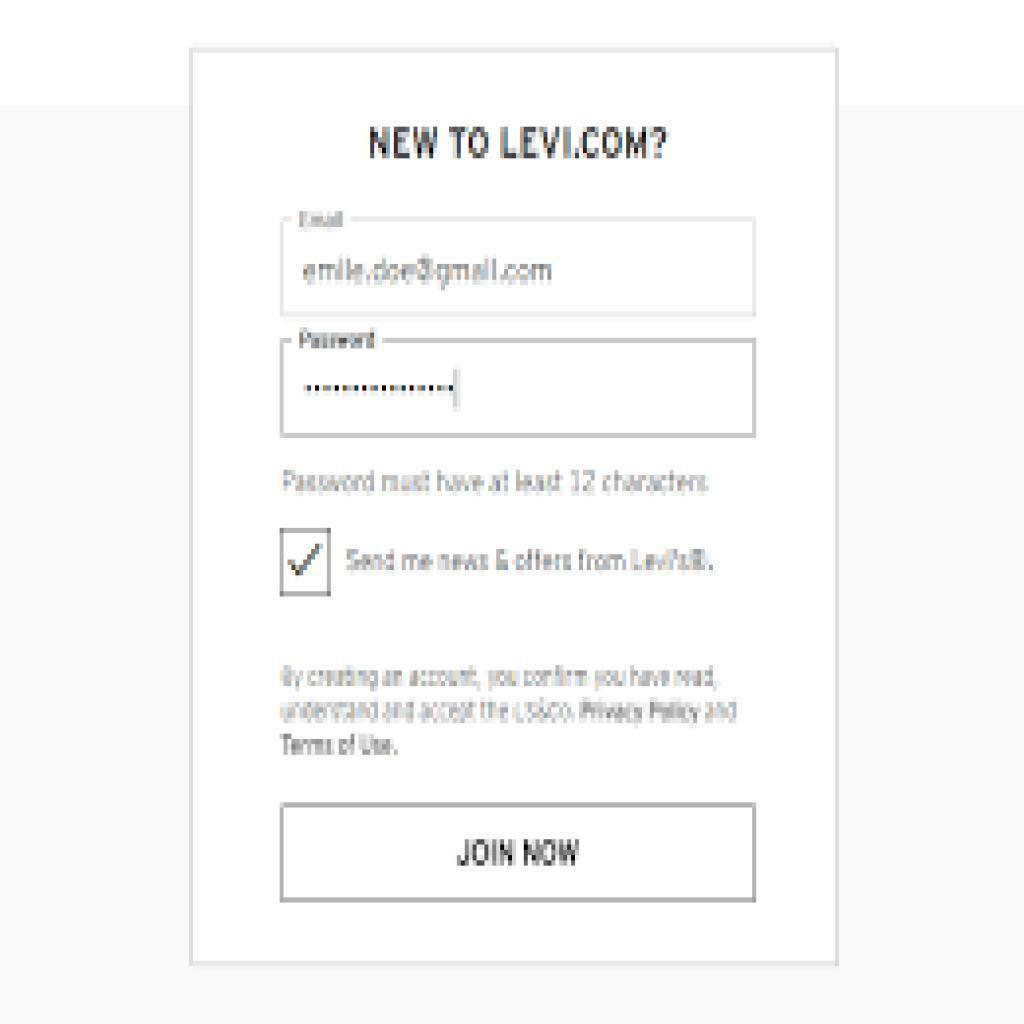button: (284, 802, 756, 898)
checkbox: (280, 532, 328, 597)
input: (280, 341, 759, 435), (285, 222, 755, 314)
